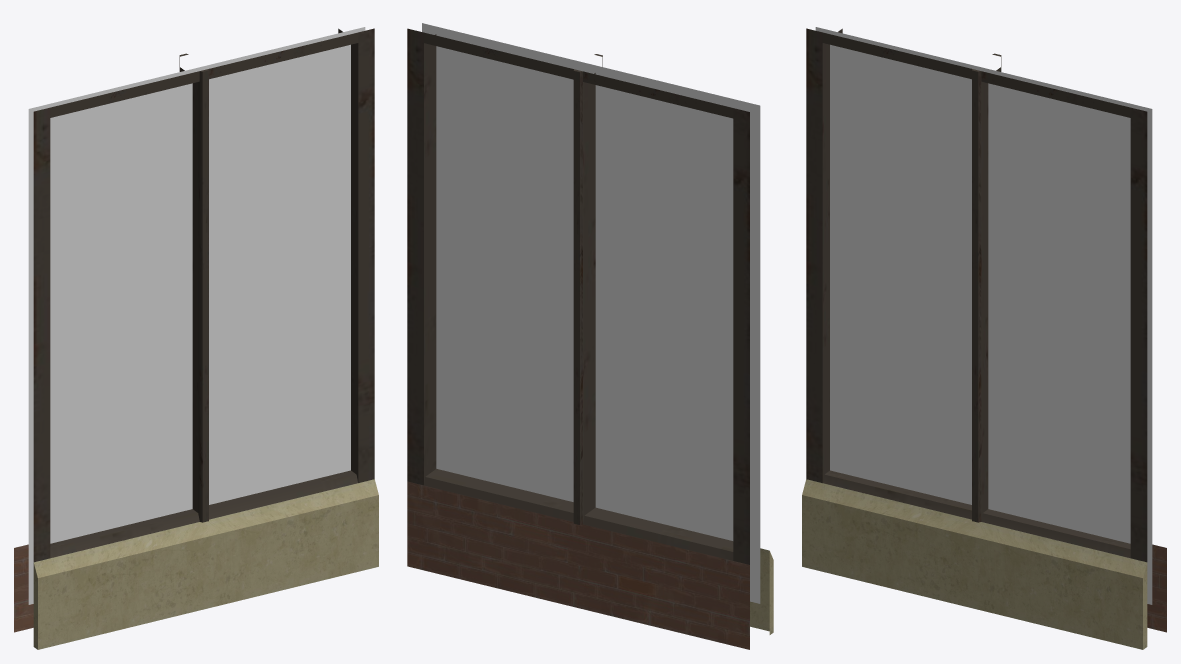
File: Metal_FirstFloor_Window.gltf
The picture shows the model from 3 angles, left to right: view 1: azimuth 30°, elevation 25°; view 2: azimuth 150°, elevation 25°; view 3: azimuth 330°, elevation 25°; orthographic projection.
Parts seen in each view (by area): view 1: Metal_FirstFloor_Window; view 2: Metal_FirstFloor_Window; view 3: Metal_FirstFloor_Window.
Part boxes in pixels (x1=…): Metal_FirstFloor_Window: x1=14, y1=27, x2=378, y2=649; Metal_FirstFloor_Window: x1=407, y1=23, x2=773, y2=649; Metal_FirstFloor_Window: x1=802, y1=27, x2=1166, y2=649.
Size of the model in its own units: 2 by 3 by 0.2588.
5 materials, 3 textured.
